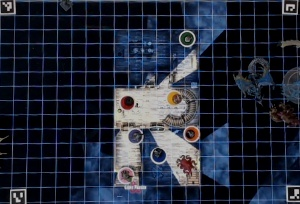blue: (149, 145, 167, 166)
green: (177, 28, 197, 49)
orange: (183, 123, 200, 142)
pink: (116, 163, 136, 185)
red: (117, 94, 138, 109)
violet: (125, 125, 146, 146)
yellow: (166, 87, 186, 106)
